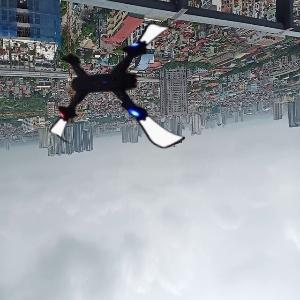drone: (52, 12, 193, 153)
